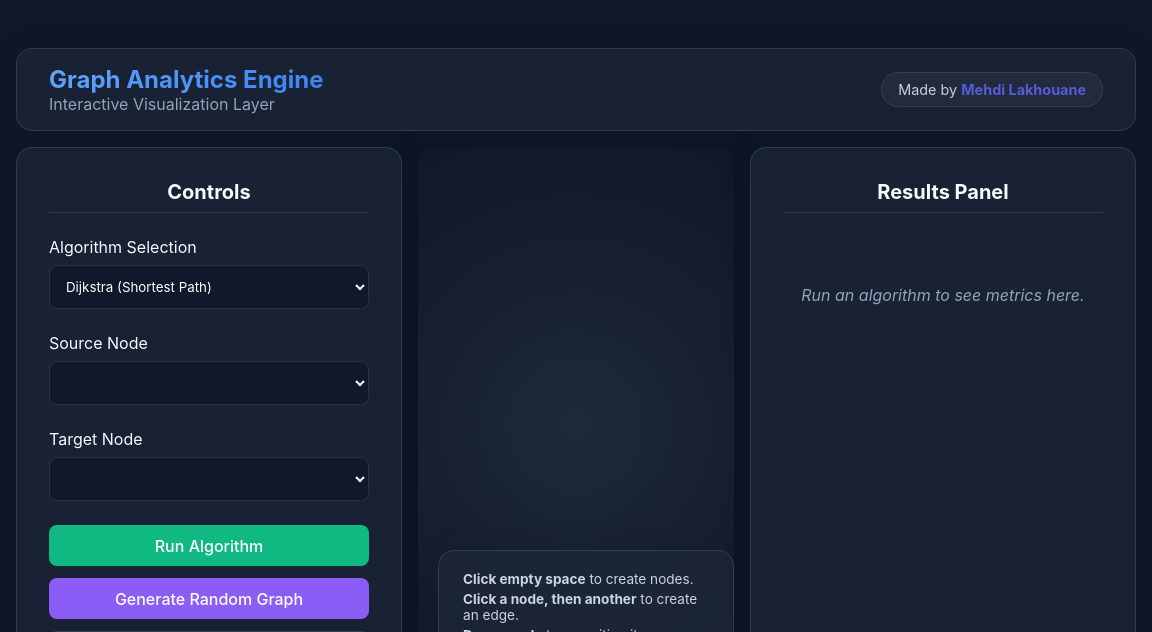
Test: App.vue › hides target selector for BFS
The image size is (1152, 632).
Select "Breadth-First Search" in the dropdown below "Algorithm Selection" at (209, 287), box [49,265,369,309]
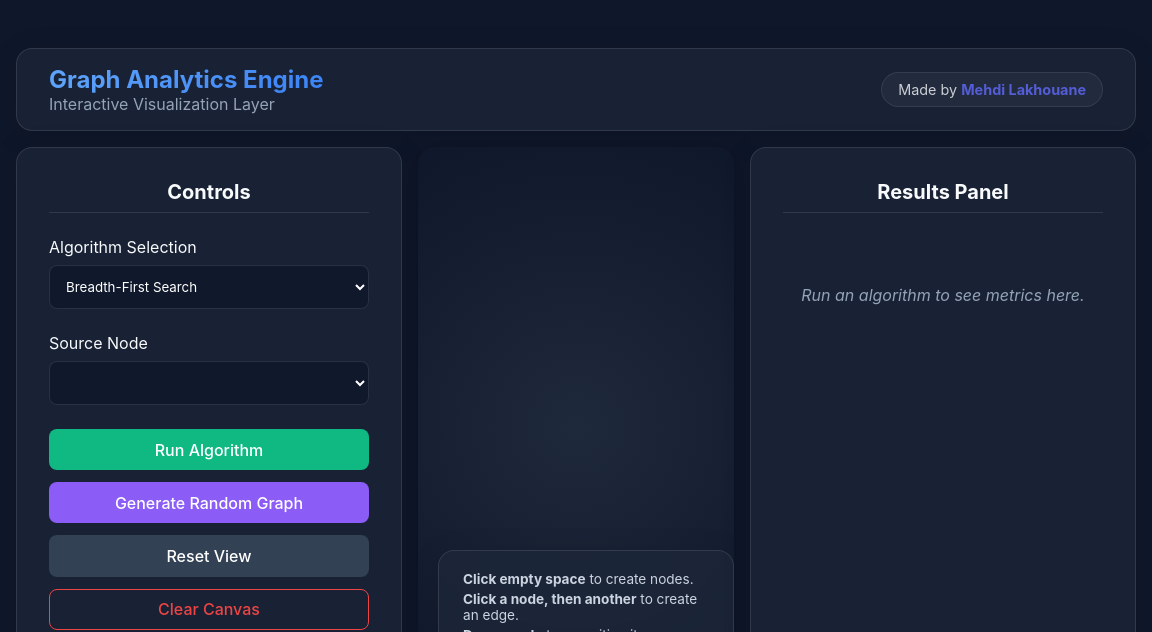
Expected: the label "Source Node" is shown, [49,333,148,353]
Expected: the label no longer shows "Target Node"
